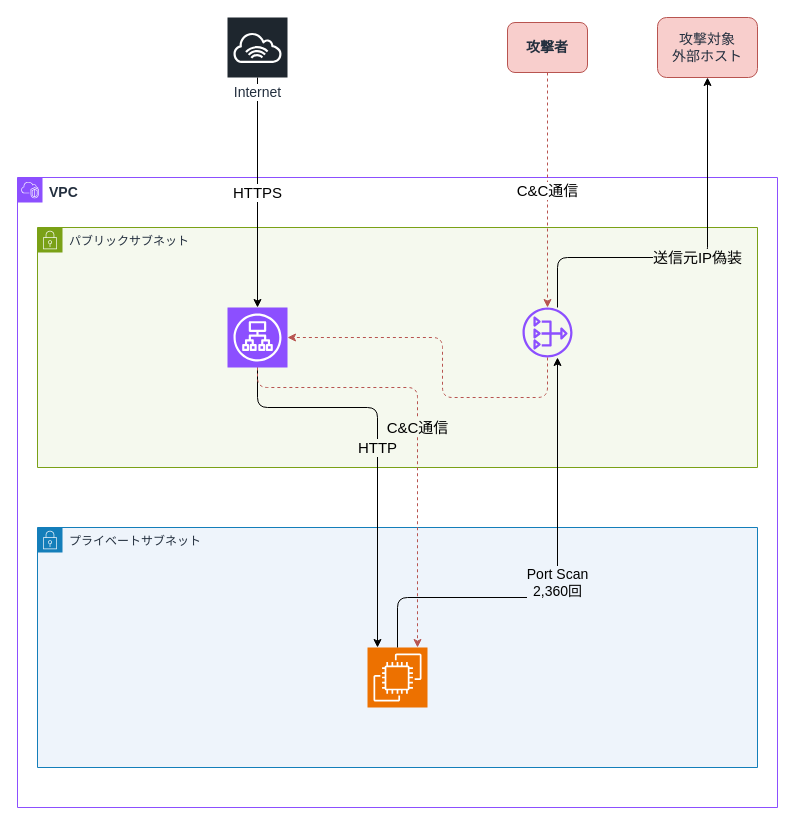
Some shapes in this 795 by 825 pixel diagram are drawn without their labels. Here are the shapes that lost their labels. From the top down, the centre of each, then its label:
(x=257, y=337): Application Load Balancer
(x=547, y=332): NAT Gateway
(x=397, y=677): EC2 Instance Dify Server
